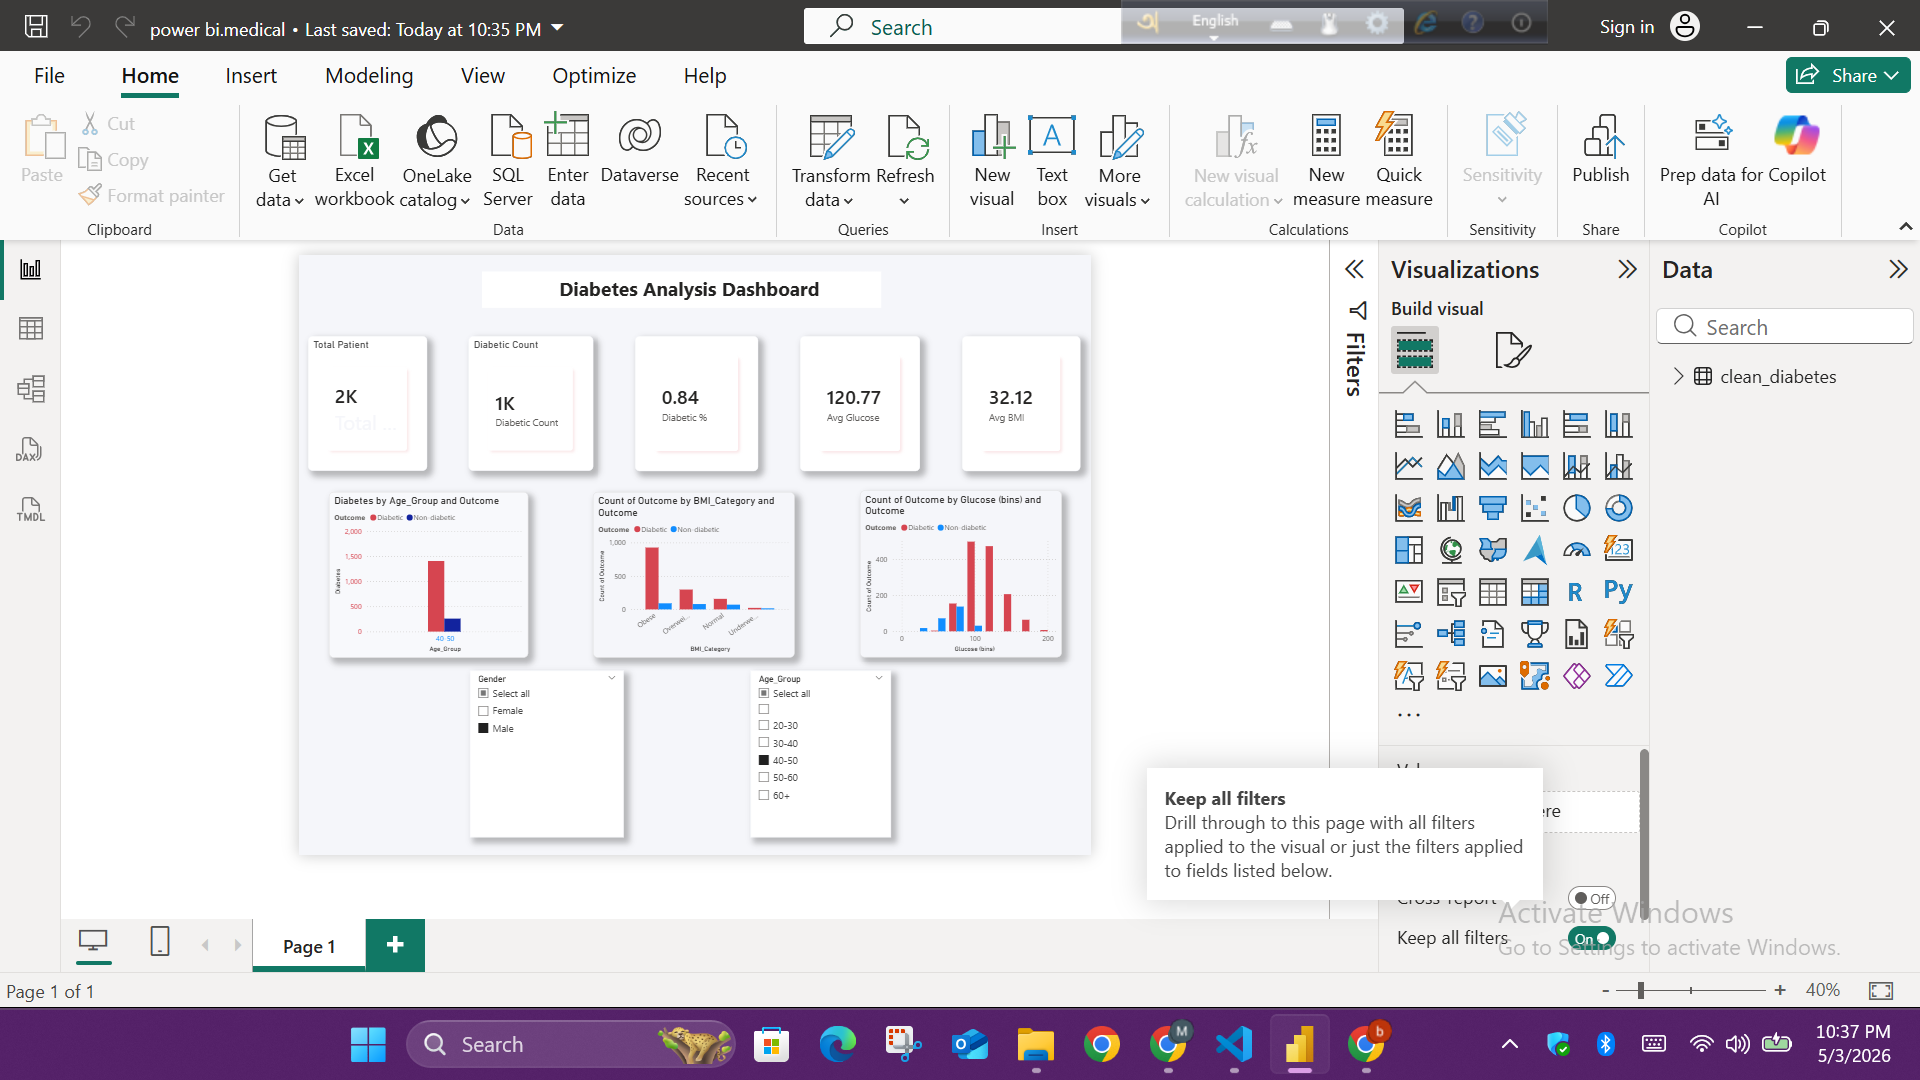

Layout of this report page (visuals, bound fields, positions):
{"tool":"powerbi","page":{"name":"Page 1","canvas":[1321,1000],"ordinal":0},"visuals":[{"type":"cardVisual","title":"Total Patient","fields":{"Data":["clean_diabetes.Total Patients"]},"box":[15.1,136.1,198.4,224.9],"z":0},{"type":"cardVisual","title":"Diabetic Count","fields":{"Data":["clean_diabetes.Diabetic Count"]},"box":[283.2,135.4,207.9,224.9],"z":1000},{"type":"cardVisual","fields":{"Data":["clean_diabetes.Diabetic %"]},"box":[560.7,135,205,225],"z":2000},{"type":"cardVisual","fields":{"Data":["clean_diabetes.Avg Glucose"]},"box":[835.4,135,200,225],"z":3000},{"type":"cardVisual","fields":{"Data":["clean_diabetes.Avg BMI"]},"box":[1105,135,197.5,225],"z":4000},{"type":"clusteredColumnChart","fields":{"Category":["clean_diabetes.Age_Group"],"Series":["clean_diabetes.Outcome"],"Y":["CountNonNull(clean_diabetes.Outcome_Label)"]},"box":[50,394,332,276],"z":5000},{"type":"clusteredColumnChart","fields":{"Category":["clean_diabetes.BMI_Category"],"Series":["clean_diabetes.Outcome"],"Y":["CountNonNull(clean_diabetes.Outcome)"]},"box":[491,394,336,276],"z":6000},{"type":"clusteredColumnChart","fields":{"Category":["clean_diabetes.Glucose (bins)"],"Series":["clean_diabetes.Outcome"],"Y":["CountNonNull(clean_diabetes.Outcome)"]},"box":[936,392,336,278],"z":7000},{"type":"slicer","fields":{"Values":["clean_diabetes.Gender"]},"box":[286,692,256,278],"z":8000},{"type":"slicer","fields":{"Values":["clean_diabetes.Age_Group"]},"box":[752,692,234,278],"z":9000},{"type":"textbox","box":[304.3,28.3,665.2,60.5],"z":10000}]}

Visuals, with their boxes on the page's 1321x1000 design canvas (x1, y1, x2, y2). These are canvas units, not pixel positions in the 1920x1080 screenshot, which may show the page scaled, cropped or inside an application window:
"Total Patient" cardVisual: (15,136,214,361)
"Diabetic Count" cardVisual: (283,135,491,360)
cardVisual - clean_diabetes.Diabetic %: (561,135,766,360)
cardVisual - clean_diabetes.Avg Glucose: (835,135,1035,360)
cardVisual - clean_diabetes.Avg BMI: (1105,135,1302,360)
clusteredColumnChart - clean_diabetes.Age_Group x clean_diabetes.Outcome: (50,394,382,670)
clusteredColumnChart - clean_diabetes.BMI_Category x clean_diabetes.Outcome: (491,394,827,670)
clusteredColumnChart - clean_diabetes.Glucose (bins) x clean_diabetes.Outcome: (936,392,1272,670)
slicer - clean_diabetes.Gender: (286,692,542,970)
slicer - clean_diabetes.Age_Group: (752,692,986,970)
textbox: (304,28,970,89)
